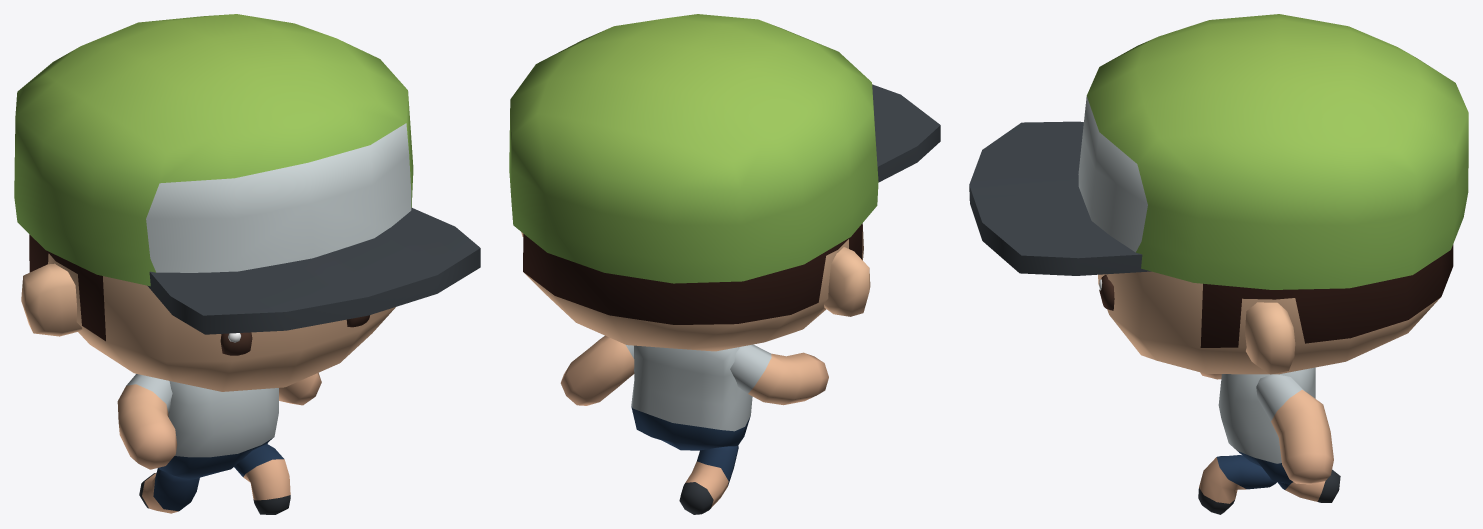
Rendered from run_0017.obj.
The picture shows the model from 3 angles, left to right: view 1: azimuth 30°, elevation 25°; view 2: azimuth 150°, elevation 25°; view 3: azimuth 270°, elevation 25°; orthographic projection. The views are drawn at different scales.
Parts seen in each view (by area): view 1: Object_41, Object_42, Object_36, Object_44, Object_38; view 2: Object_41, Object_36, Object_44, Object_42; view 3: Object_41, Object_36, Object_42, Object_44.
Boxes of the visible parts, x1,y1,x2,y2 form: Object_41: (14,14,413,286); Object_42: (146,123,480,334); Object_36: (21,234,395,391); Object_44: (117,373,321,514); Object_38: (220,315,369,355); Object_41: (509,14,878,283); Object_36: (521,223,870,351); Object_44: (560,335,828,514); Object_42: (872,84,940,182); Object_41: (1086,14,1468,289); Object_36: (1098,244,1453,374); Object_42: (969,96,1151,275); Object_44: (1198,367,1340,514).
Bounding box in the file's own units: 0.9691 × 1.17 × 1.13.
